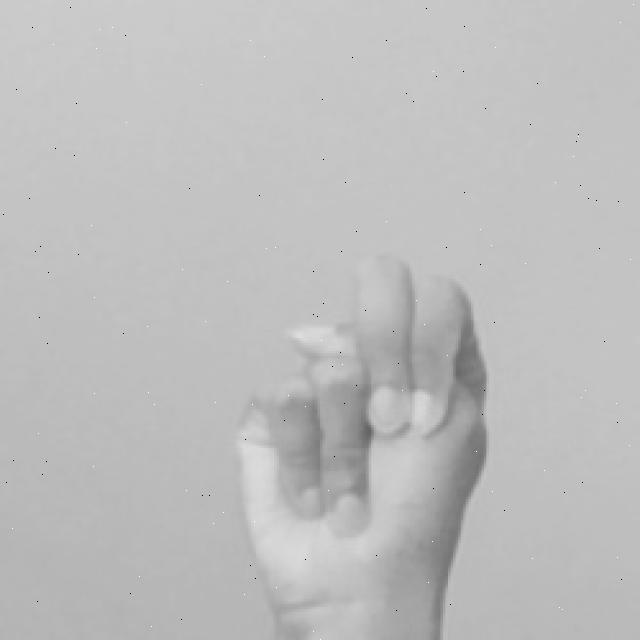N: (223, 250, 492, 640)
